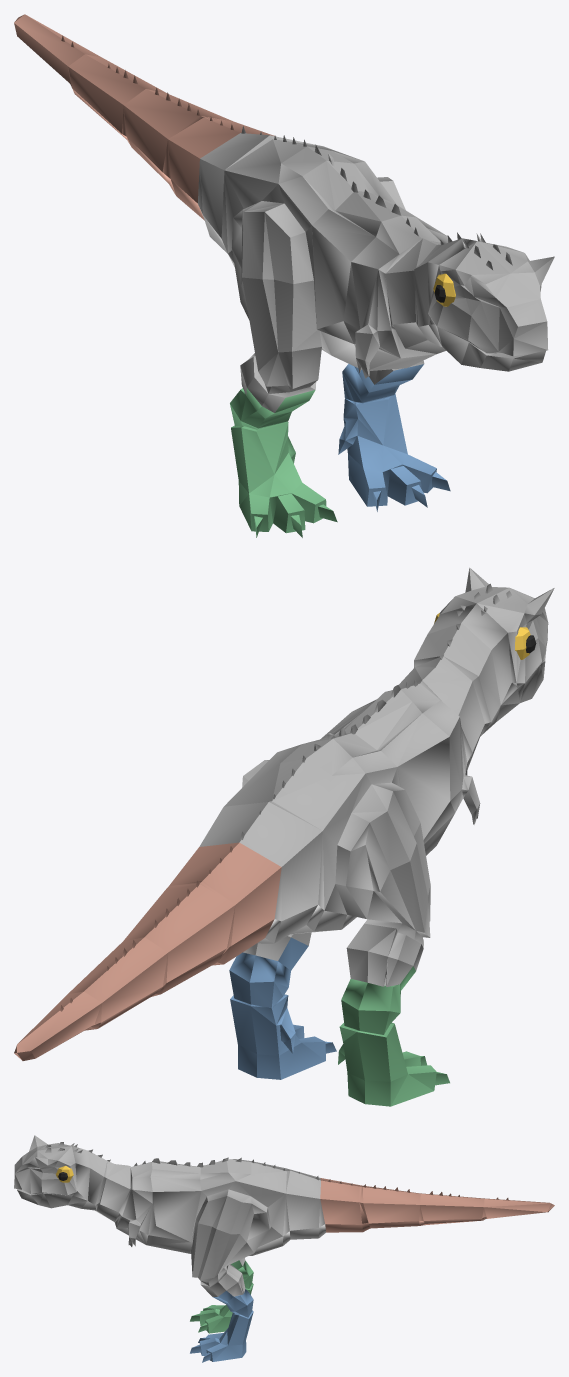
The model's file is carno.fbx.
The picture shows the model from 3 angles, top to bottom: view 1: azimuth 30°, elevation 25°; view 2: azimuth 150°, elevation 25°; view 3: azimuth 270°, elevation 25°; orthographic projection. The views are drawn at different scales.
Visible parts, largest first — view 1: carno_Body, carno_Tail, carno_LegL, carno_LegR; view 2: carno_Body, carno_Tail, carno_LegL, carno_LegR; view 3: carno_Body, carno_Tail, carno_LegL, carno_LegR.
Part boxes in pixels (bbox=[...]): carno_Body: bbox=[197, 126, 554, 412]; carno_Tail: bbox=[14, 14, 274, 220]; carno_LegL: bbox=[338, 363, 450, 511]; carno_LegR: bbox=[230, 388, 337, 537]; carno_Body: bbox=[199, 567, 554, 986]; carno_Tail: bbox=[14, 842, 281, 1060]; carno_LegL: bbox=[229, 937, 336, 1079]; carno_LegR: bbox=[338, 966, 449, 1106]; carno_Body: bbox=[14, 1135, 325, 1296]; carno_Tail: bbox=[320, 1178, 554, 1232]; carno_LegL: bbox=[190, 1289, 253, 1362]; carno_LegR: bbox=[190, 1260, 253, 1333].
Size of the model in its own units: 2.06 by 3.75 by 9.45.
